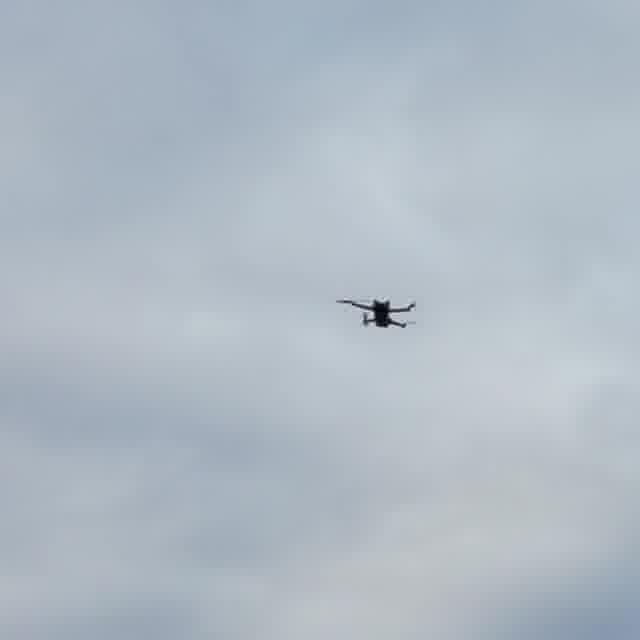Drohne: (337, 299, 415, 327)
